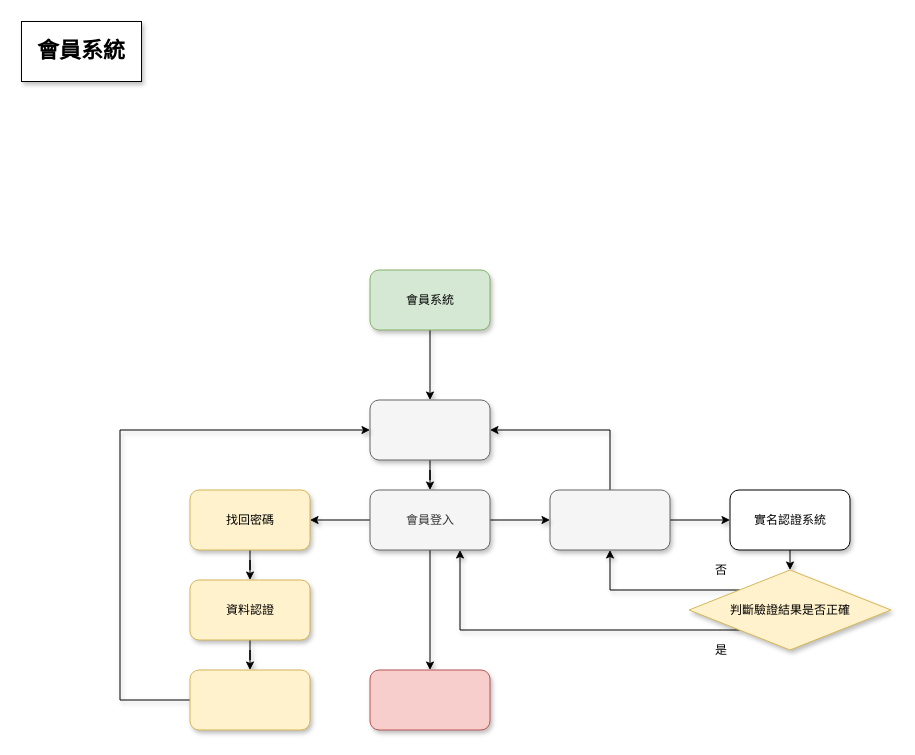
This 915x755 diagram has some shape labels left out. Here are the shapes that lost their labels. From the top down, the centre of each, then its label:
point 430,431: 首頁
point 610,521: 註冊帳號
point 250,701: 重設密碼
point 430,701: 購票系統
